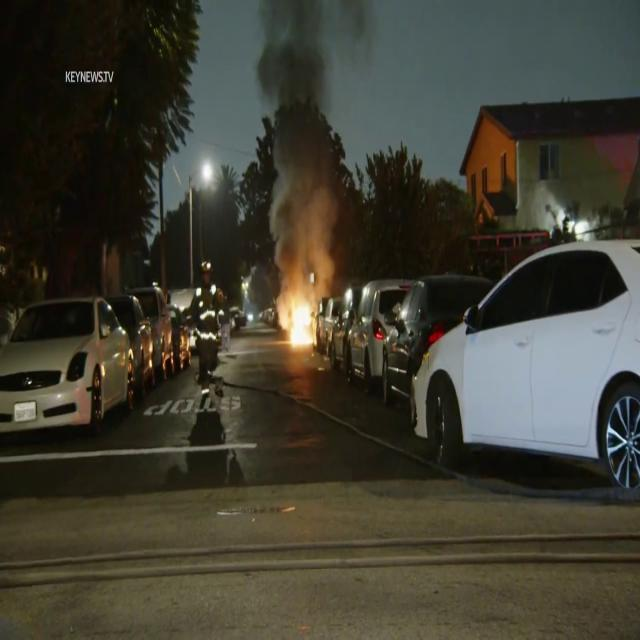Fire: (278, 282, 322, 354)
Smoke: (252, 1, 354, 287)
